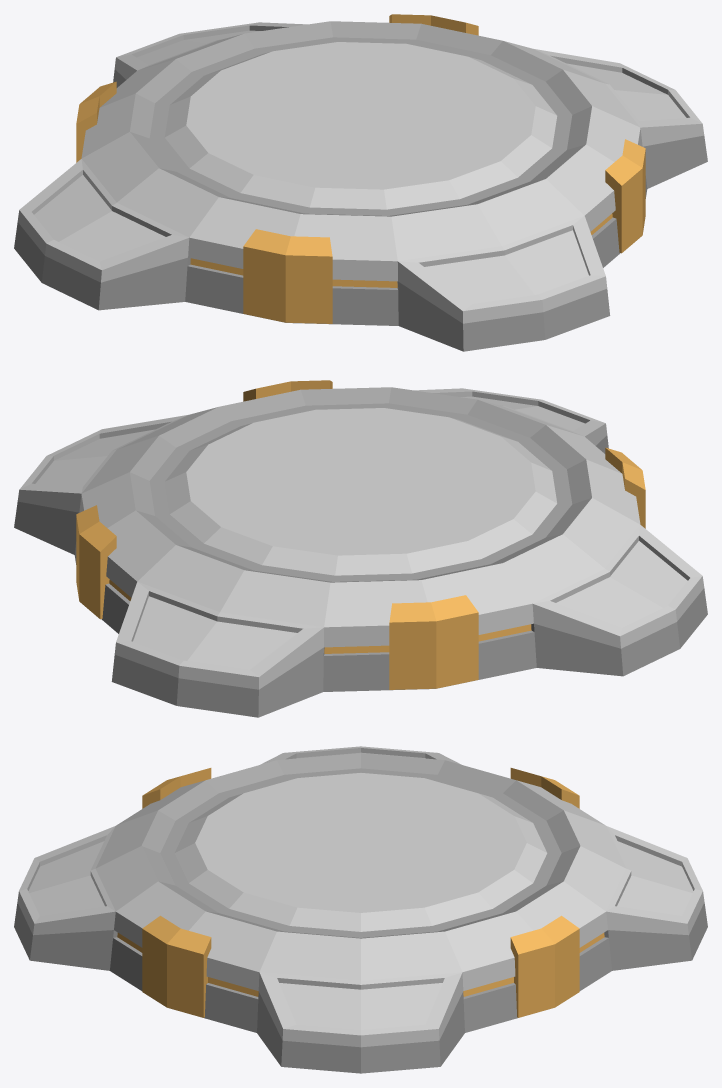
3 views of the same model, one above another, from view 1: azimuth 30°, elevation 25°; view 2: azimuth 150°, elevation 25°; view 3: azimuth 270°, elevation 25° (orthographic). The views are drawn at different scales.
Parts seen in each view (by area): view 1: Props_Base; view 2: Props_Base; view 3: Props_Base.
Boxes of the visible parts, x1,y1,x2,y2 form: Props_Base: [14, 14, 707, 351]; Props_Base: [14, 380, 707, 717]; Props_Base: [14, 746, 707, 1073].
Size of the model in its own units: 2.4 by 0.3203 by 2.4.
